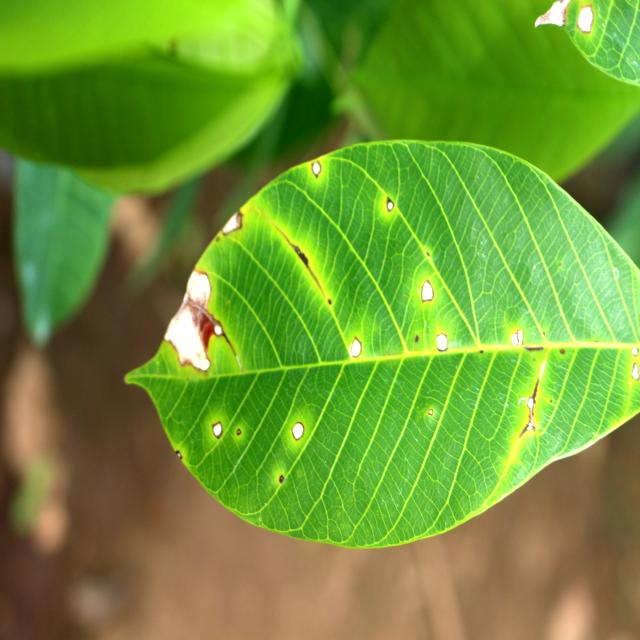Colletotrichum: (577, 4, 595, 34), (421, 279, 434, 303), (292, 421, 304, 441), (351, 337, 362, 358), (436, 333, 448, 351), (212, 421, 223, 439), (312, 160, 322, 178), (387, 198, 394, 212), (279, 474, 284, 484), (237, 428, 241, 436), (428, 409, 433, 415)
Corynespora: (273, 224, 327, 298), (516, 378, 540, 444), (214, 320, 224, 337)
Leaf-Blight: (164, 268, 211, 372), (534, 0, 571, 27), (222, 210, 242, 235)
